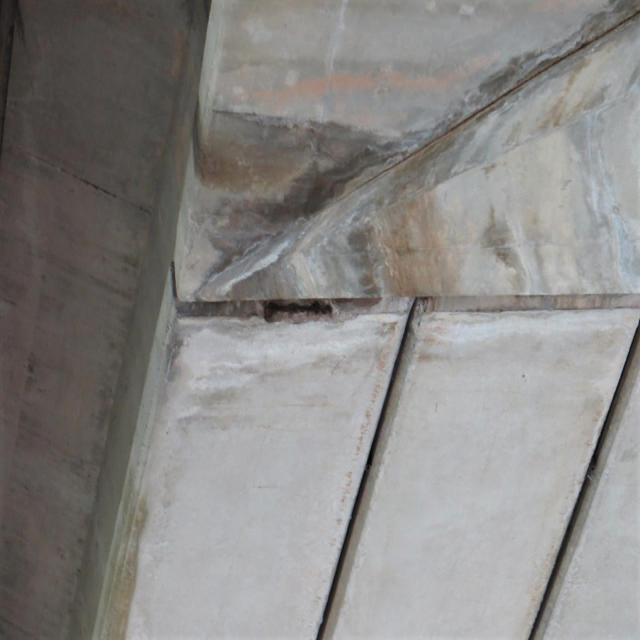Rebar: (261, 298, 339, 324)
